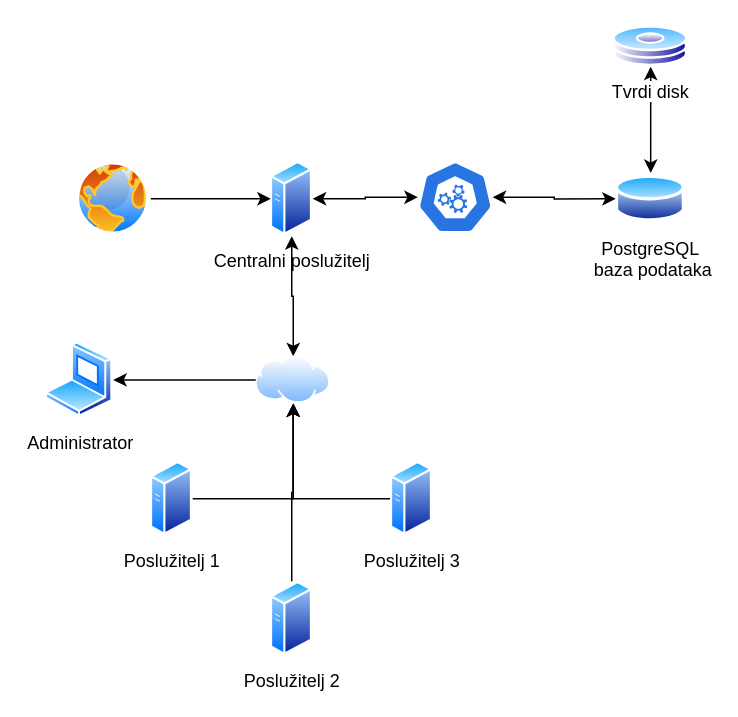
This 738x717 diagram has some shape labels left out. Each missing label, with the centre of its shape:
API: the point at 454,196
Internet: the point at 292,379
Web stranica: the point at 112,198
